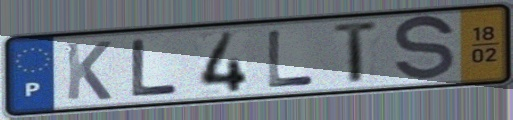4: (195, 29, 251, 95)
K: (62, 39, 114, 102)
L: (128, 37, 183, 100), (265, 28, 317, 90)
S: (391, 12, 459, 86)
T: (330, 18, 383, 88)
